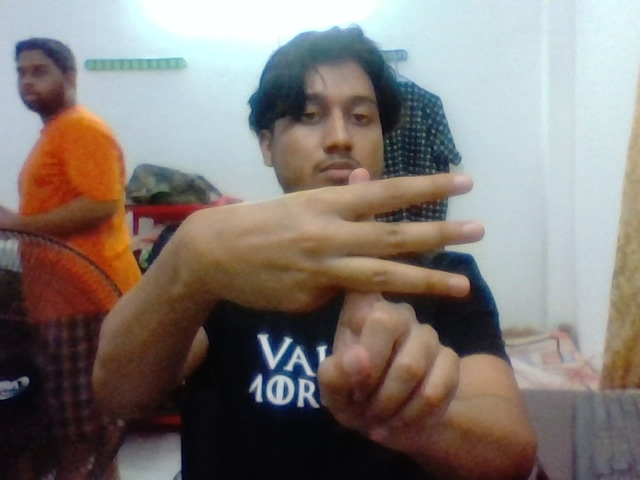E: (298, 157, 495, 407)
